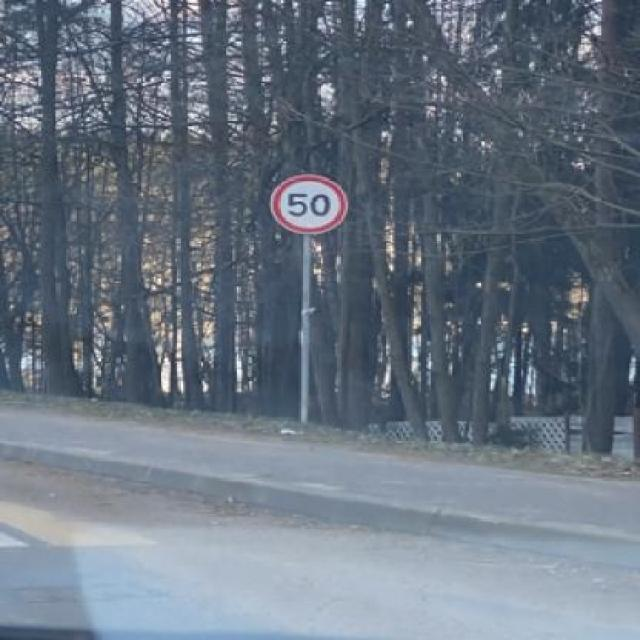forb_speed_over_50: (272, 173, 346, 235)
